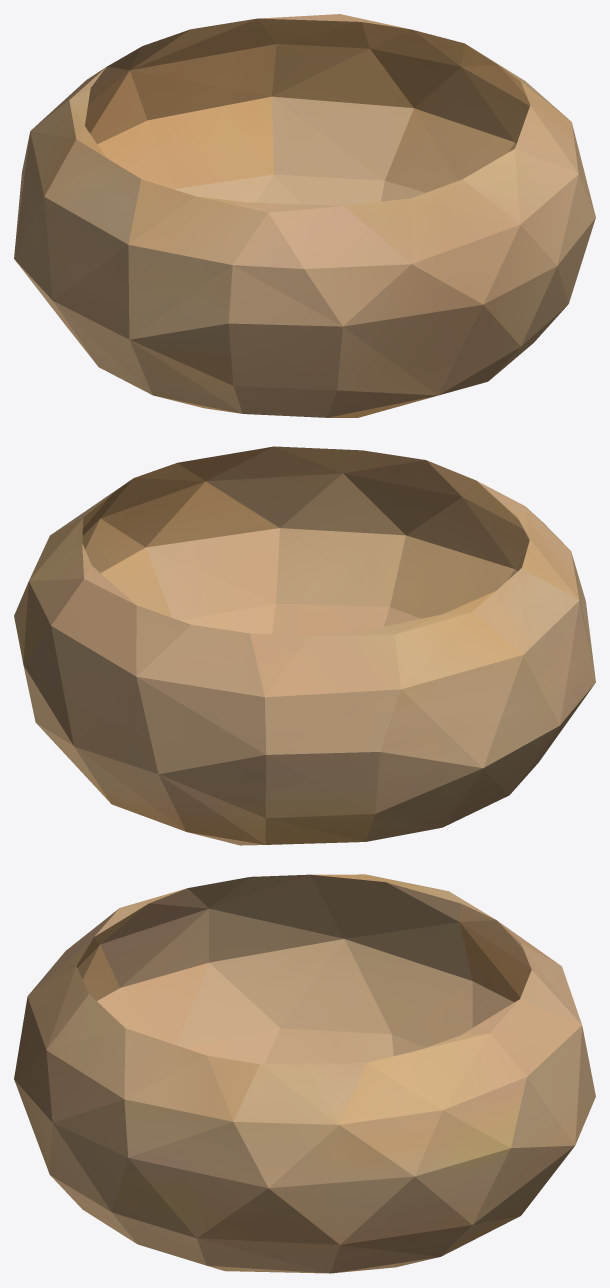
File: bowl2_1c.dae
3 views of the same model, one above another, from view 1: azimuth 30°, elevation 25°; view 2: azimuth 150°, elevation 25°; view 3: azimuth 270°, elevation 25° (orthographic).
Visible parts, largest first — view 1: node; view 2: node; view 3: node.
Boxes of the visible parts, x1,y1,x2,y2 form: node: (14, 14, 595, 417); node: (14, 446, 595, 845); node: (14, 874, 595, 1273).
Size of the model in its own units: 0.1445 by 0.0669 by 0.1439.
Materials: 1 (1 with a texture image).
